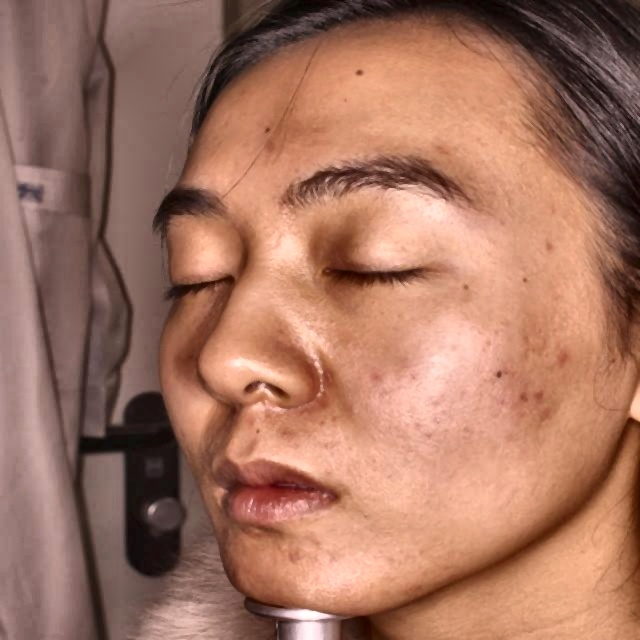comedone: (541, 342, 572, 372)
